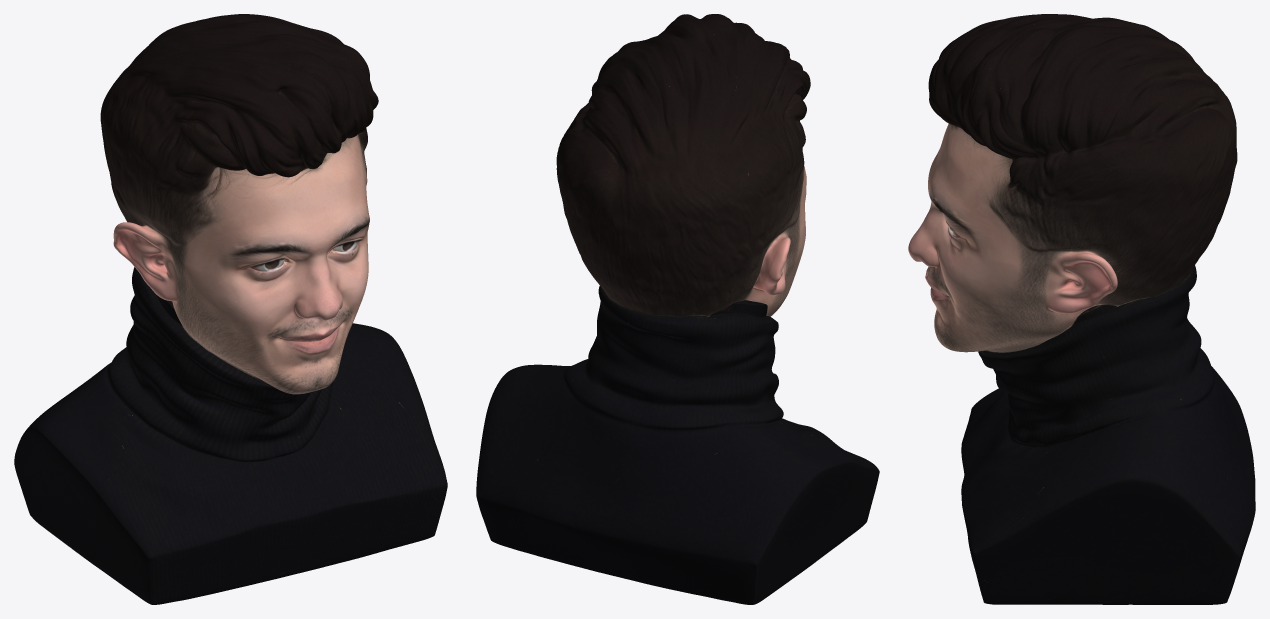
The model's file is serkankaya.glb.
The picture shows the model from 3 angles, left to right: view 1: azimuth 30°, elevation 25°; view 2: azimuth 150°, elevation 25°; view 3: azimuth 270°, elevation 25°; orthographic projection. The views are drawn at different scales.
Size of the model in its own units: 1.33 by 1.9 by 1.16.
1 material, 1 textured.
